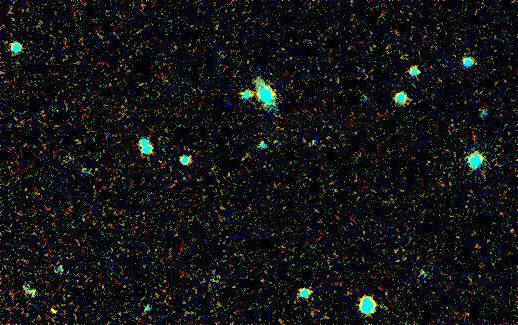star: (38, 295, 68, 325)
